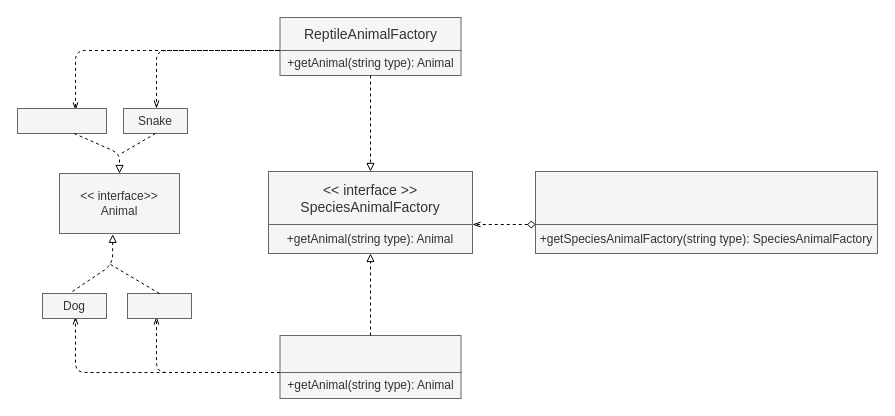
Some shapes in this 895 by 416 pixel diagram are drawn without their labels. Each missing label, with the centre of its shape:
AbstractFactory: point 706,197
Cat: point 159,305
MammalAnimalFactory: point 370,353
Tyrannosaurus: point 61,121
